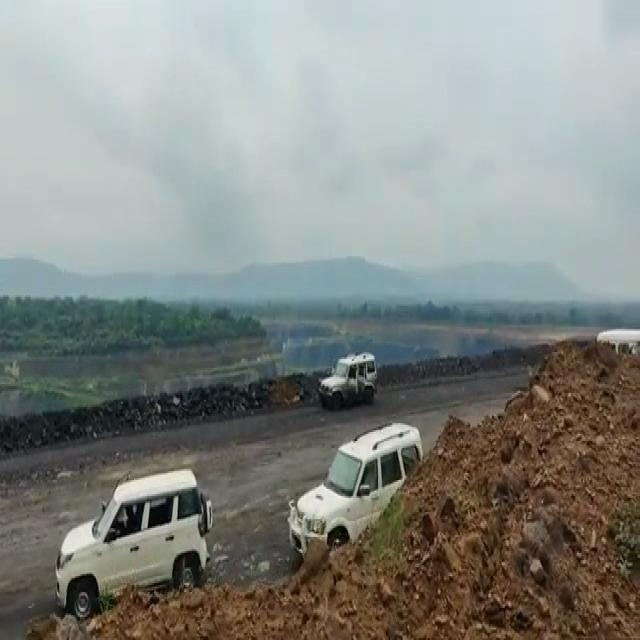light_vehicle: (48, 474, 208, 589), (296, 468, 369, 547), (319, 353, 377, 408)
